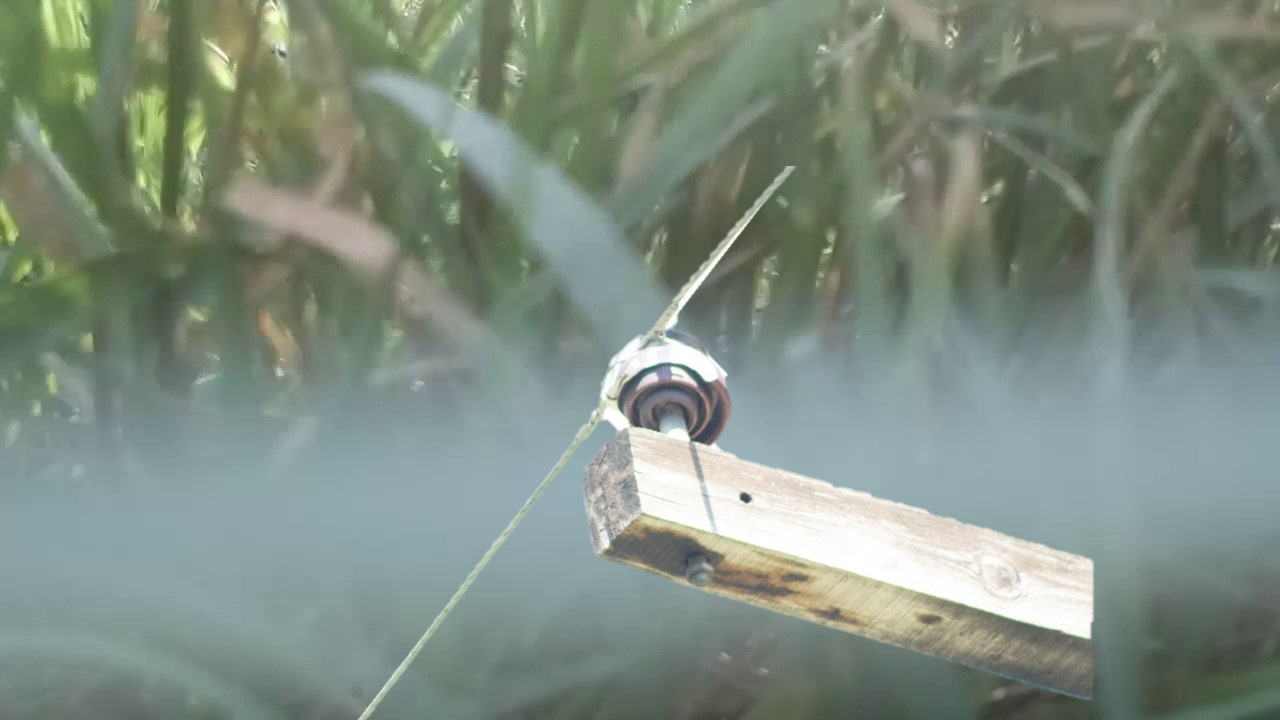defect_pin: (592, 325, 738, 447)
